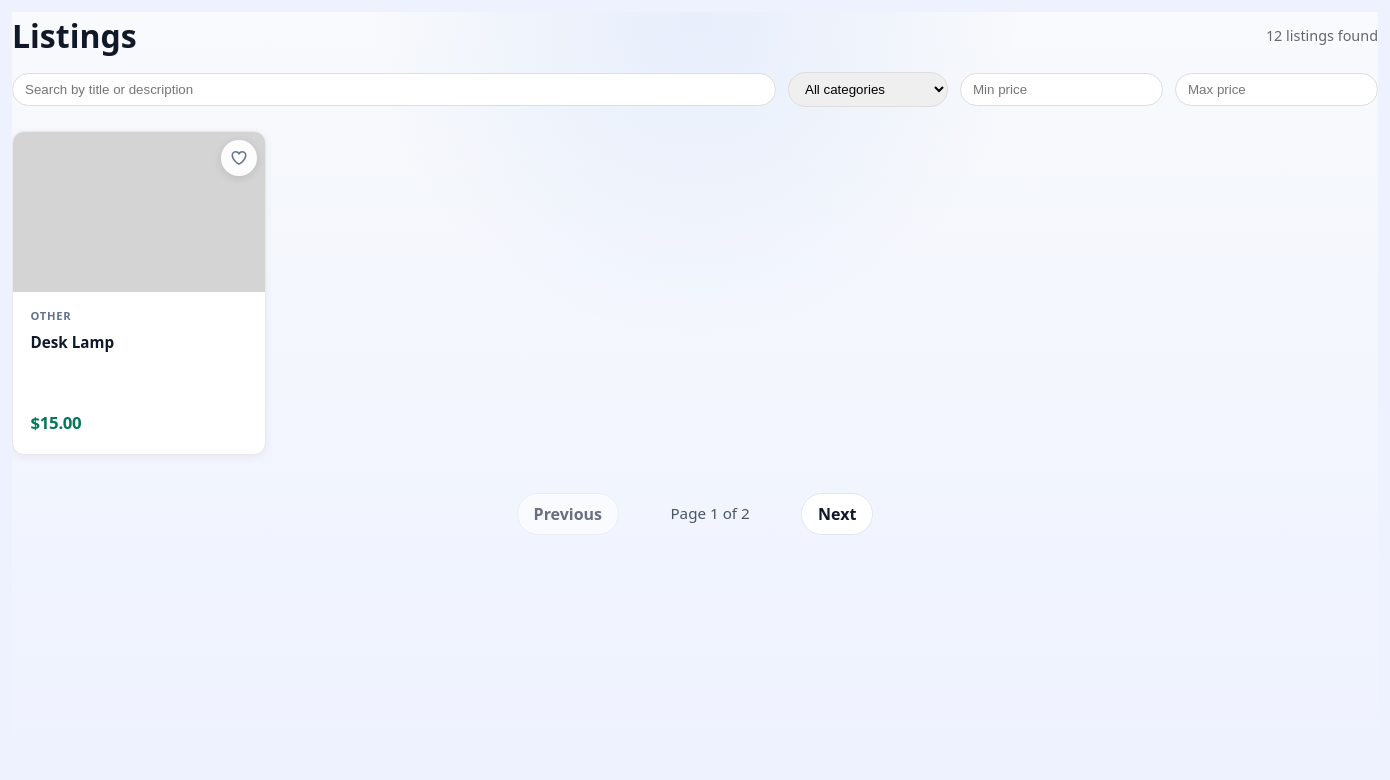
Test: HomePage › requests the next backend page when pagination advances
Expected: the heading "Desk Lamp" is shown, [31,332,114,352]
Click the button "Next": [837, 514] box [801,493,873,535]
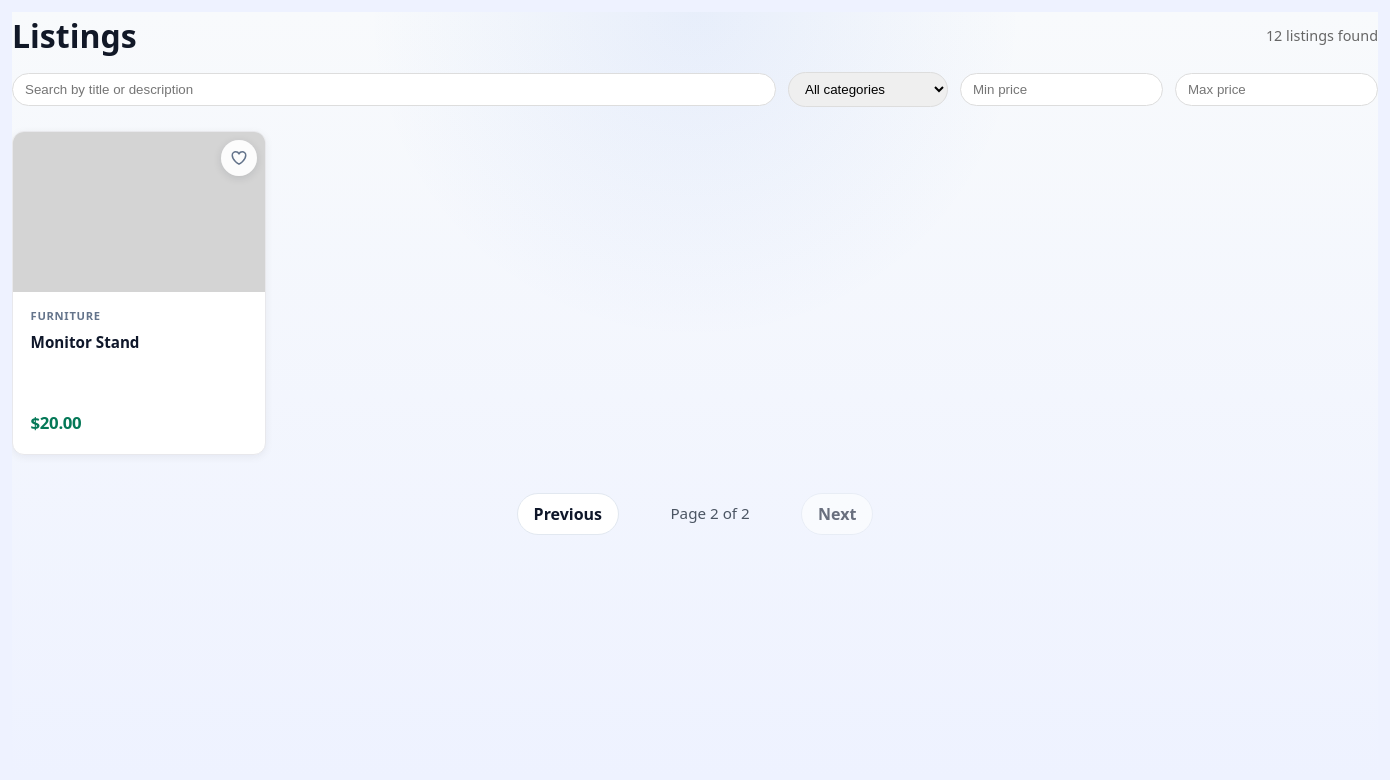
Expected: the heading "Monitor Stand" is shown, [31,332,140,352]
Expected: the text "Page 2 of 2" is shown, [670,503,750,523]
